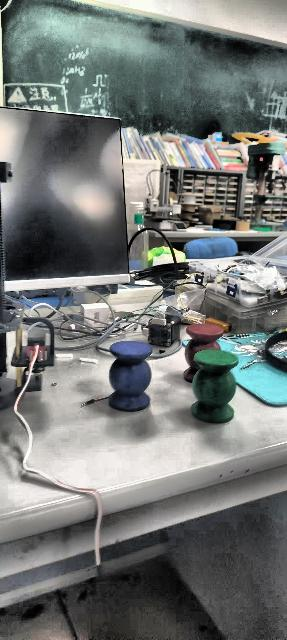blue: (108, 341, 152, 412)
green: (196, 354, 242, 428)
red: (181, 322, 226, 383)
